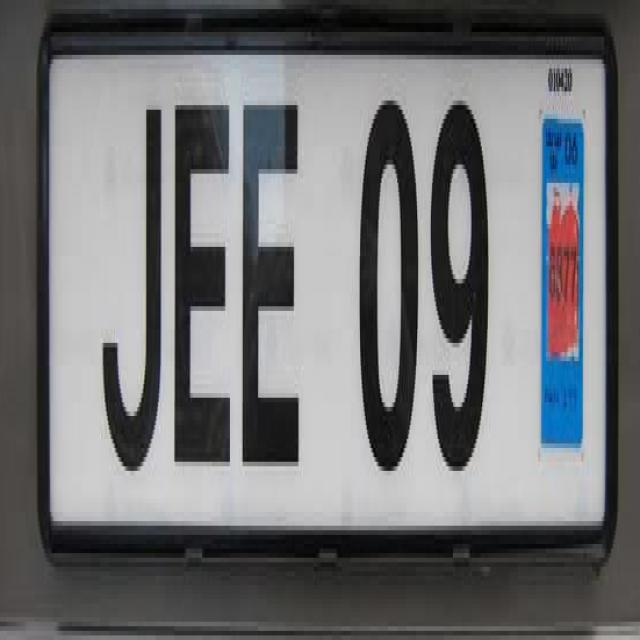EU: (45, 21, 608, 526)
